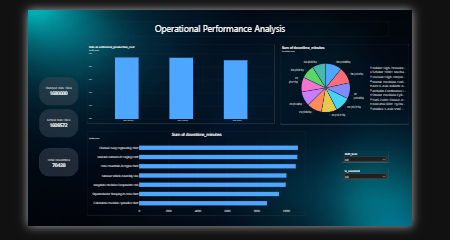

Layout of this report page (visuals, bound fields, positions):
{"tool":"powerbi","page":{"name":"operational analysis","canvas":[3840,2160],"ordinal":1},"visuals":[{"type":"cardVisual","fields":{"Data":["manufacturing_oee_db fact_production_runs.Total Downtime"]},"box":[95,1035,415,305],"z":2000},{"type":"slicer","fields":{"Values":["manufacturing_oee_db dim_machines.machine_name"]},"box":[96.7,1803.3,415,66.7],"z":3000},{"type":"barChart","fields":{"Category":["manufacturing_oee_db dim_plants.plant_name"],"Y":["Sum(manufacturing_oee_db fact_production_runs.downtime_minutes)"]},"box":[600,325,1320,625],"z":4000},{"type":"areaChart","fields":{"Category":["manufacturing_oee_db dim_date.month_name"],"Y":["Sum(manufacturing_oee_db fact_production_runs.downtime_minutes)"]},"box":[1970,325,1750,625],"z":5000},{"type":"pieChart","fields":{"Category":["manufacturing_oee_db dim_plants.plant_name"],"Y":["Sum(manufacturing_oee_db fact_production_runs.estimated_production_cost)"]},"box":[1660,1035,915,900],"z":6000},{"type":"funnel","fields":{"Category":["manufacturing_oee_db dim_plants.plant_name"],"Y":["manufacturing_oee_db fact_production_runs.Good Units"]},"box":[600,1035,1010,900],"z":7000},{"type":"slicer","fields":{"Values":["manufacturing_oee_db dim_shifts.shift_name"]},"box":[97.5,1635,417.5,65],"z":8000},{"type":"slicer","fields":{"Values":["manufacturing_oee_db dim_shifts.shift_lead"]},"box":[97.5,1455,414,62],"z":9000},{"type":"slicer","fields":{"Values":["manufacturing_oee_db dim_date.is_weekend"]},"box":[96.7,1990,415,65],"z":9001},{"type":"columnChart","fields":{"Category":["manufacturing_oee_db dim_parts.part_name"],"Series":["manufacturing_oee_db dim_parts.category"],"Y":["CountNonNull(manufacturing_oee_db fact_production_runs.part_id)"]},"box":[2615,1035,1105,900],"z":9002},{"type":"textbox","box":[230,110,3380,160],"z":9003},{"type":"cardVisual","fields":{"Data":["manufacturing_oee_db fact_production_runs.Planned Run Time"]},"box":[95,332.5,415,305],"z":9005},{"type":"cardVisual","fields":{"Data":["manufacturing_oee_db fact_production_runs.Actual Run Time"]},"box":[95,645,415,305],"z":9006}]}

Visuals, with their boxes on the page's 3840x2160 design canvas (x1, y1, x2, y2). These are canvas units, not pixel positions in the 450x240 screenshot, which may show the page scaled, cropped or inside an application window:
cardVisual - manufacturing_oee_db fact_production_runs.Total Downtime: (95, 1035, 510, 1340)
slicer - manufacturing_oee_db dim_machines.machine_name: (97, 1803, 512, 1870)
barChart - manufacturing_oee_db dim_plants.plant_name x Sum(manufacturing_oee_db fact_production_runs.downtime_minutes): (600, 325, 1920, 950)
areaChart - manufacturing_oee_db dim_date.month_name x Sum(manufacturing_oee_db fact_production_runs.downtime_minutes): (1970, 325, 3720, 950)
pieChart - manufacturing_oee_db dim_plants.plant_name x Sum(manufacturing_oee_db fact_production_runs.estimated_production_cost): (1660, 1035, 2575, 1935)
funnel - manufacturing_oee_db dim_plants.plant_name x manufacturing_oee_db fact_production_runs.Good Units: (600, 1035, 1610, 1935)
slicer - manufacturing_oee_db dim_shifts.shift_name: (98, 1635, 515, 1700)
slicer - manufacturing_oee_db dim_shifts.shift_lead: (98, 1455, 512, 1517)
slicer - manufacturing_oee_db dim_date.is_weekend: (97, 1990, 512, 2055)
columnChart - manufacturing_oee_db dim_parts.part_name x manufacturing_oee_db dim_parts.category: (2615, 1035, 3720, 1935)
textbox: (230, 110, 3610, 270)
cardVisual - manufacturing_oee_db fact_production_runs.Planned Run Time: (95, 332, 510, 638)
cardVisual - manufacturing_oee_db fact_production_runs.Actual Run Time: (95, 645, 510, 950)
